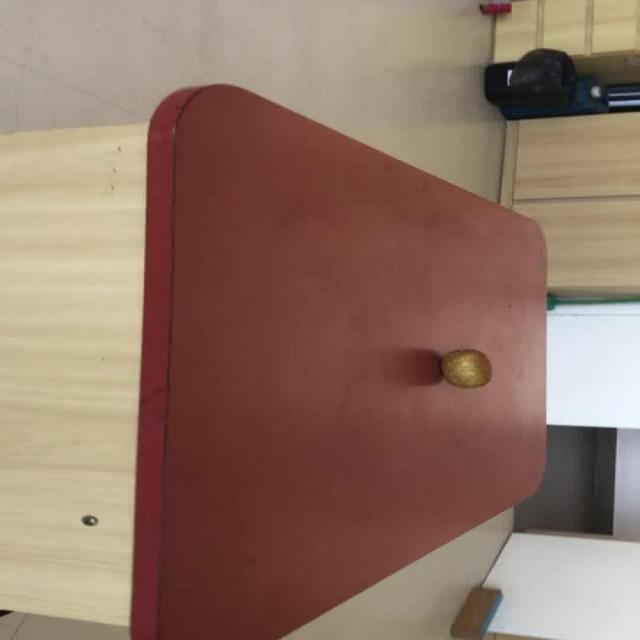Kiwi: (439, 348, 491, 389)
